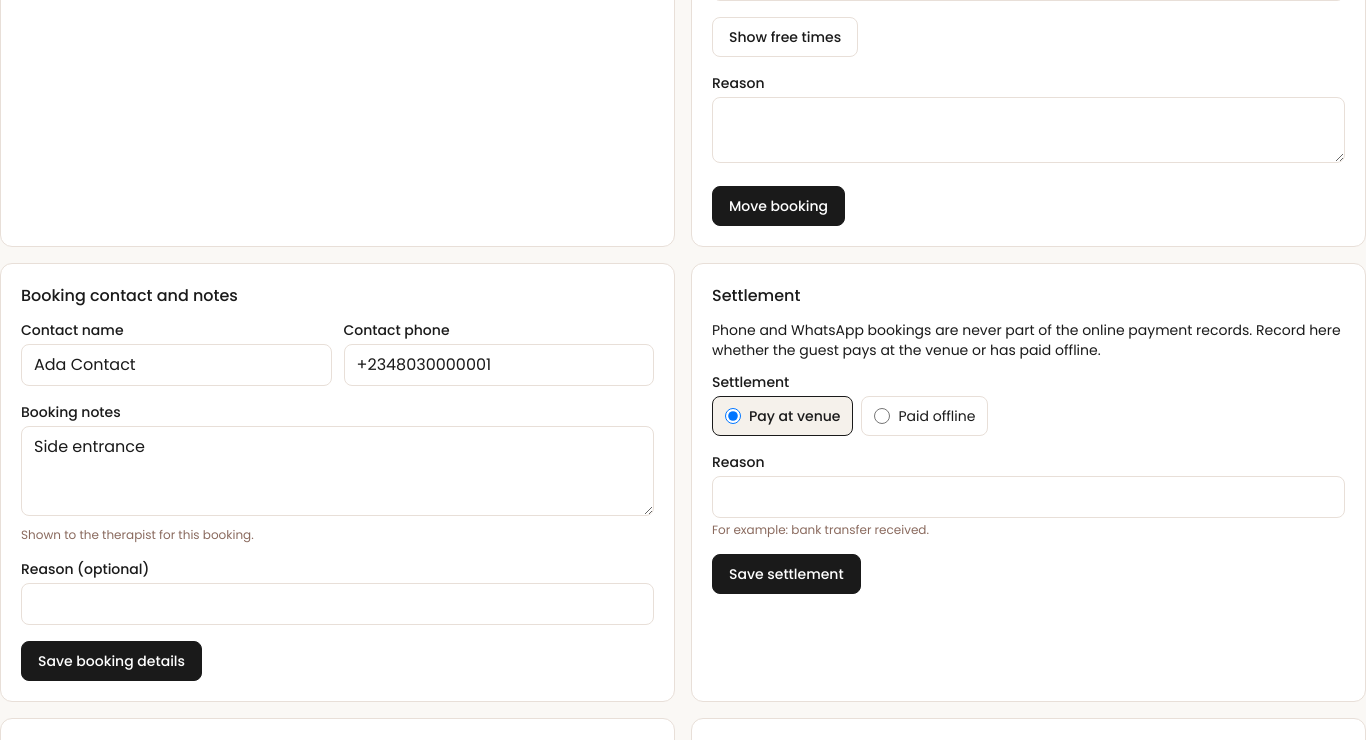
Test case: appointment detail › a stale edit is explained
(page scrolled)
Replace the text in the field labelled "Contact name" with "Driver Musa" at point(176, 365), box [21,344,332,386]
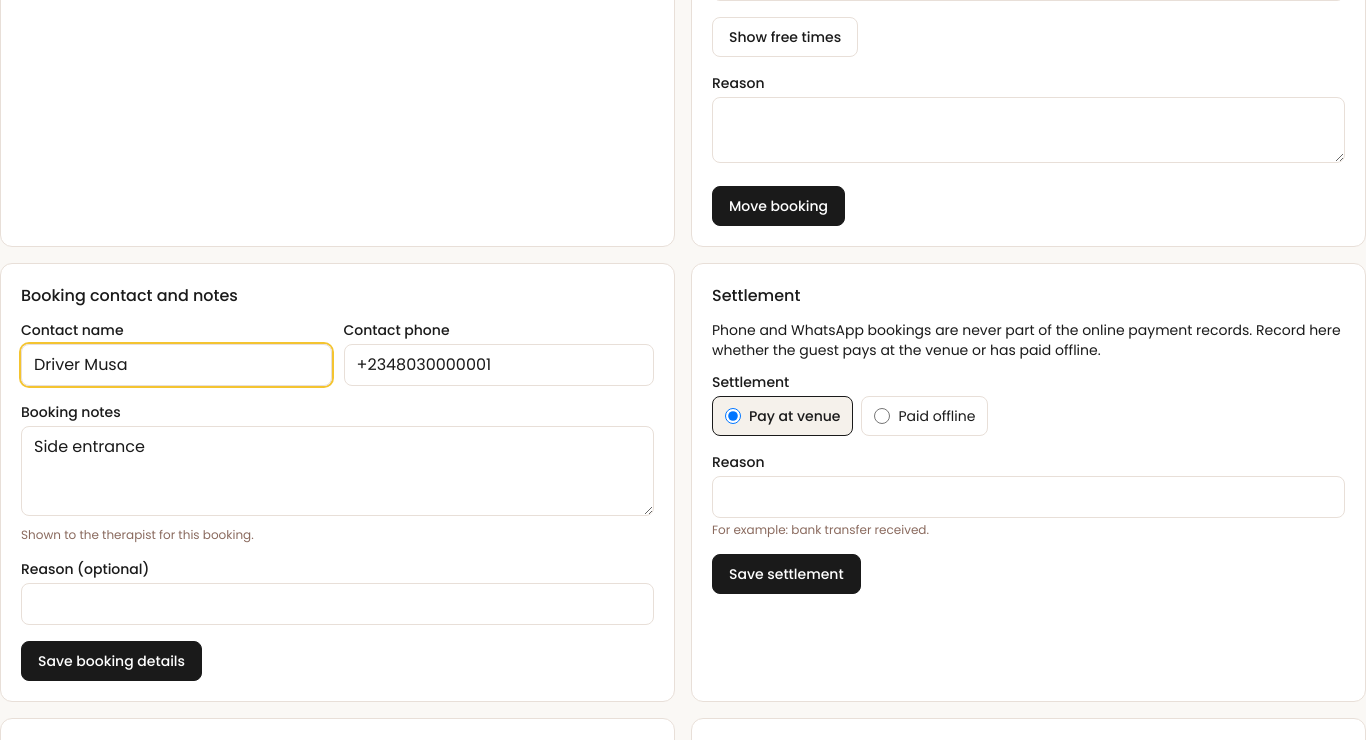
Click the button "Save booking details" at point(112, 661), box [21,641,202,681]
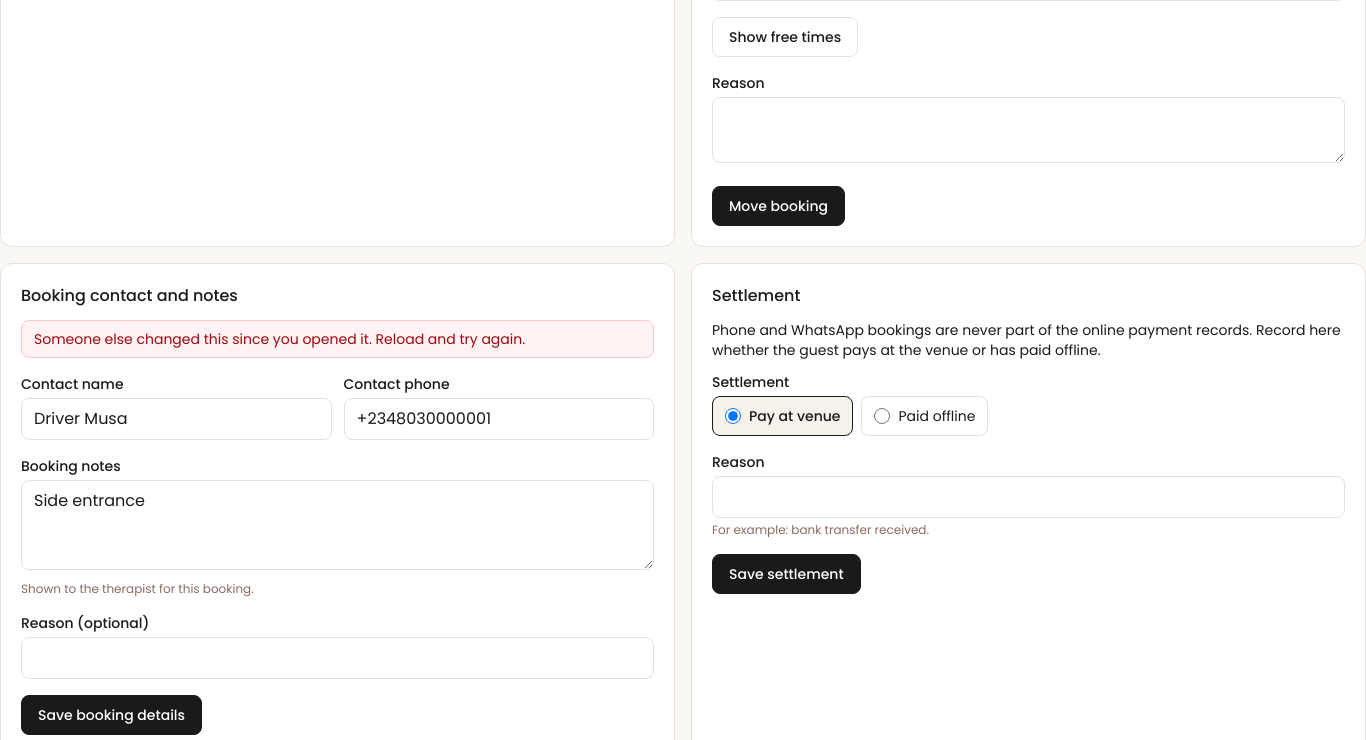
Expected: the message reads "Someone else changed this since you opened it. Reload and try again.", [34,329,525,349]
